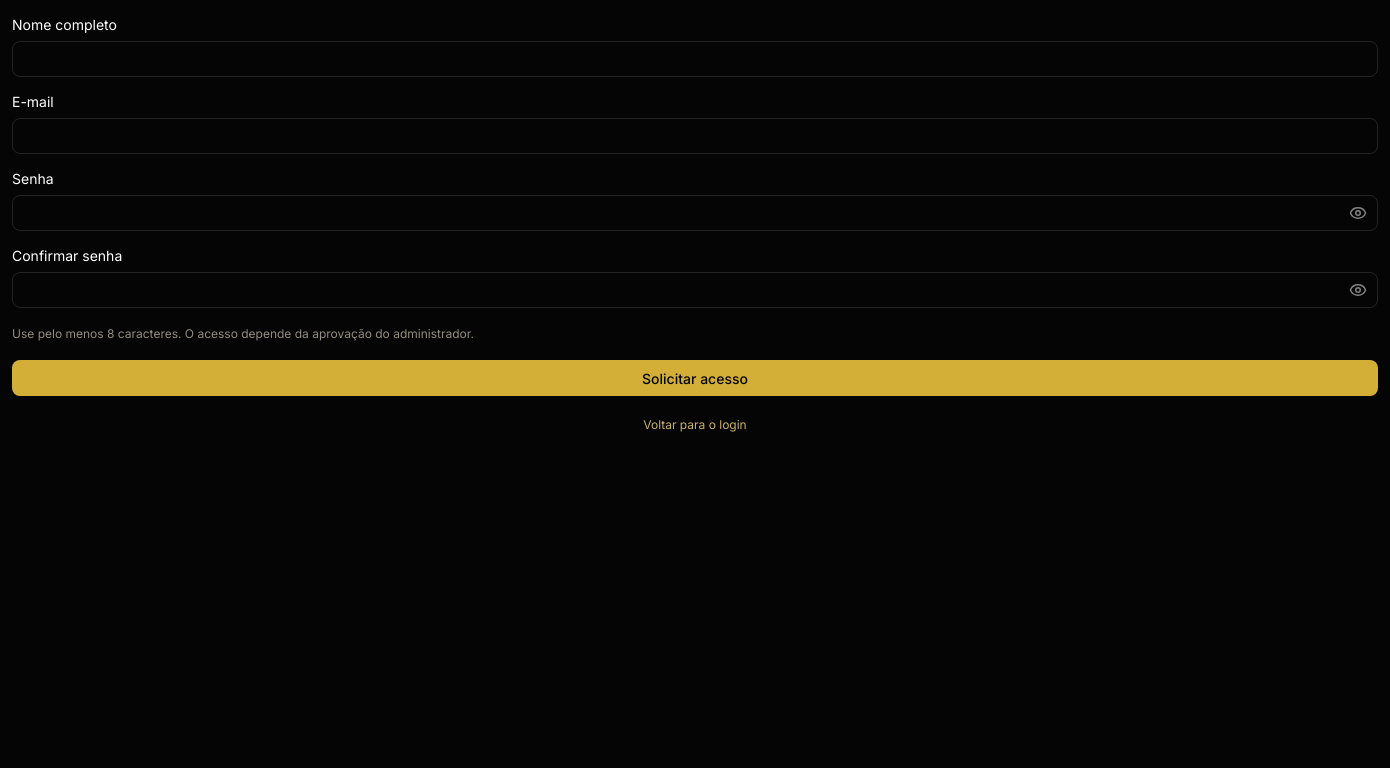
Test: auth forms › shows inline confirmation errors from the real registration action
Type "Test Person" into the field labelled "Nome completo" at x=695, y=59, box top-left (12, 41), bottom-right (1378, 77)
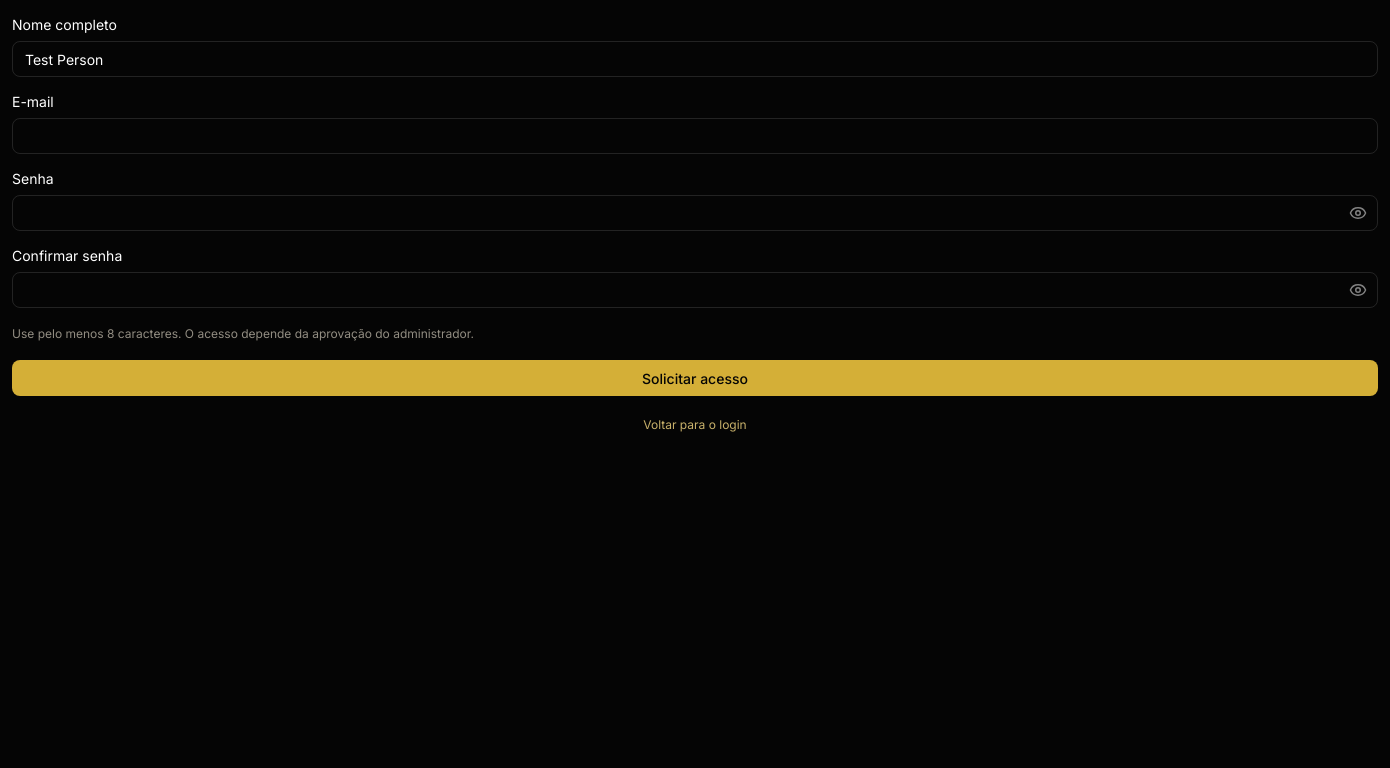
Type "person@example.test" into the field labelled "E-mail" at x=695, y=136, box top-left (12, 118), bottom-right (1378, 154)
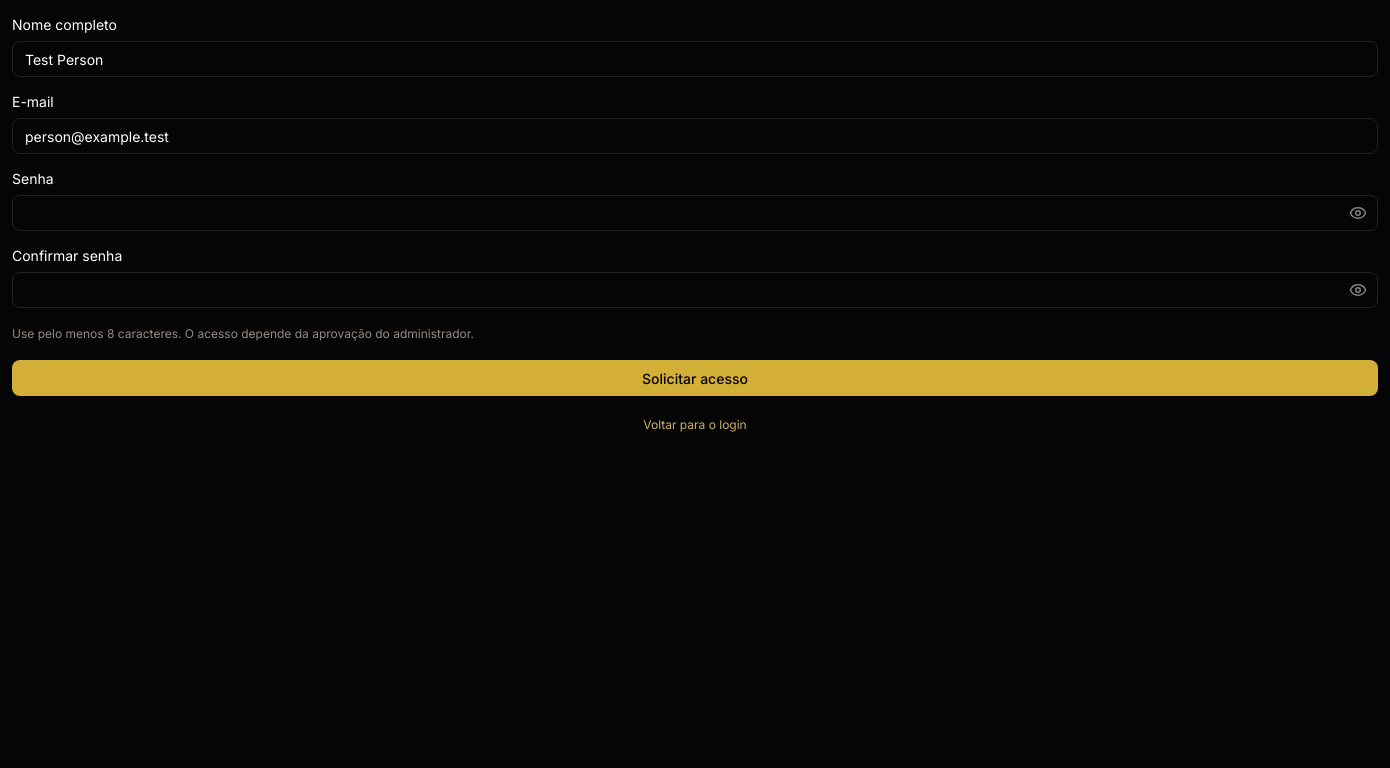
Type "password123" into the password field labelled "Senha" at x=695, y=213, box top-left (12, 195), bottom-right (1378, 231)
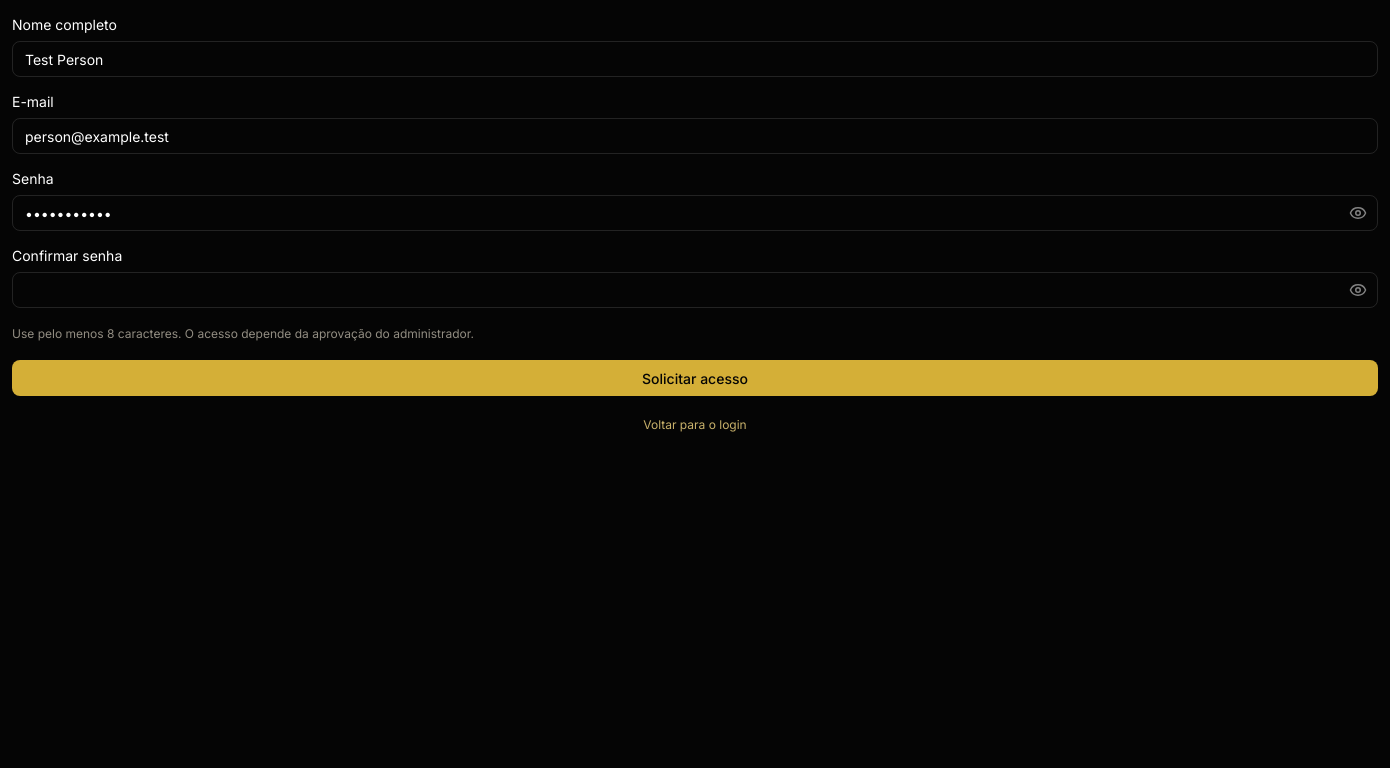
Type "different123" into the password field labelled "Confirmar senha" at x=695, y=290, box top-left (12, 272), bottom-right (1378, 308)
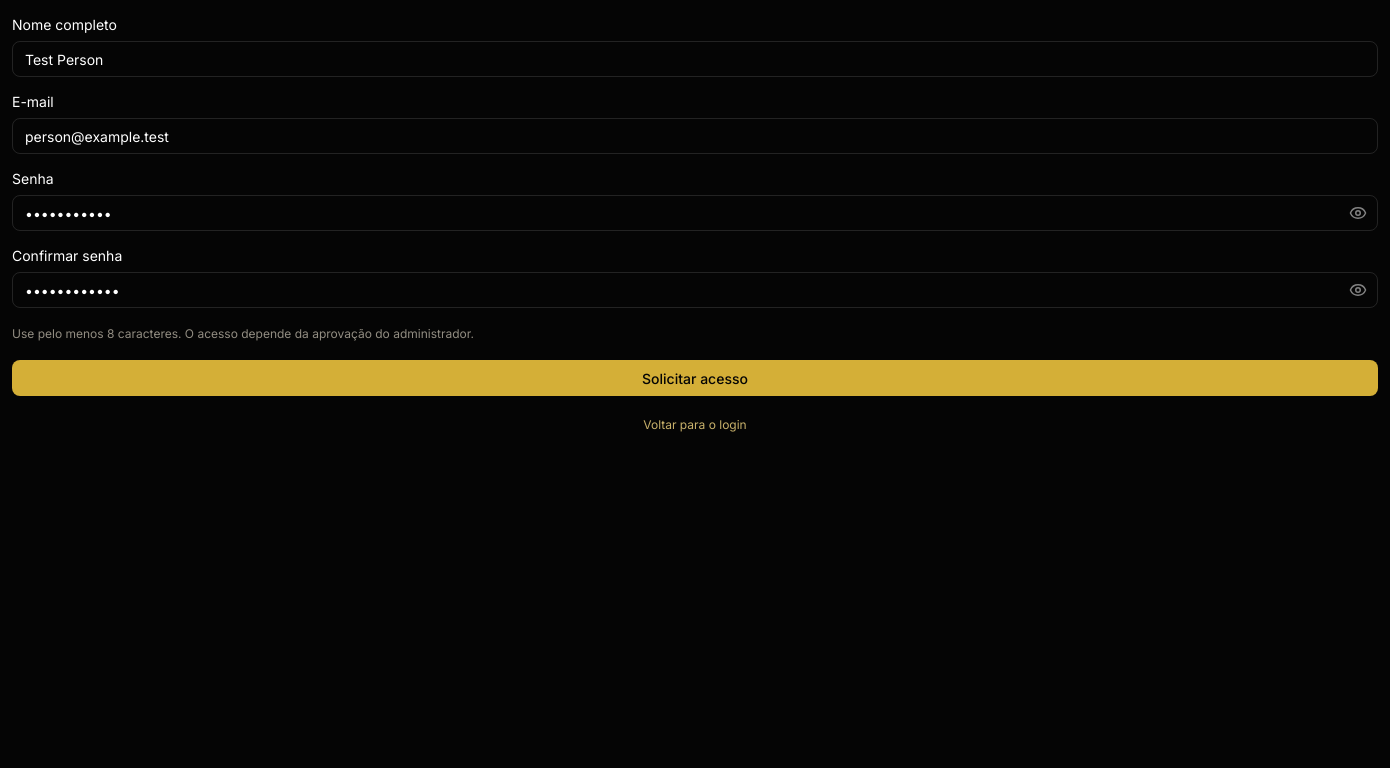
Submit the form named "Solicitar acesso", box top-left (12, 16), bottom-right (1378, 437)
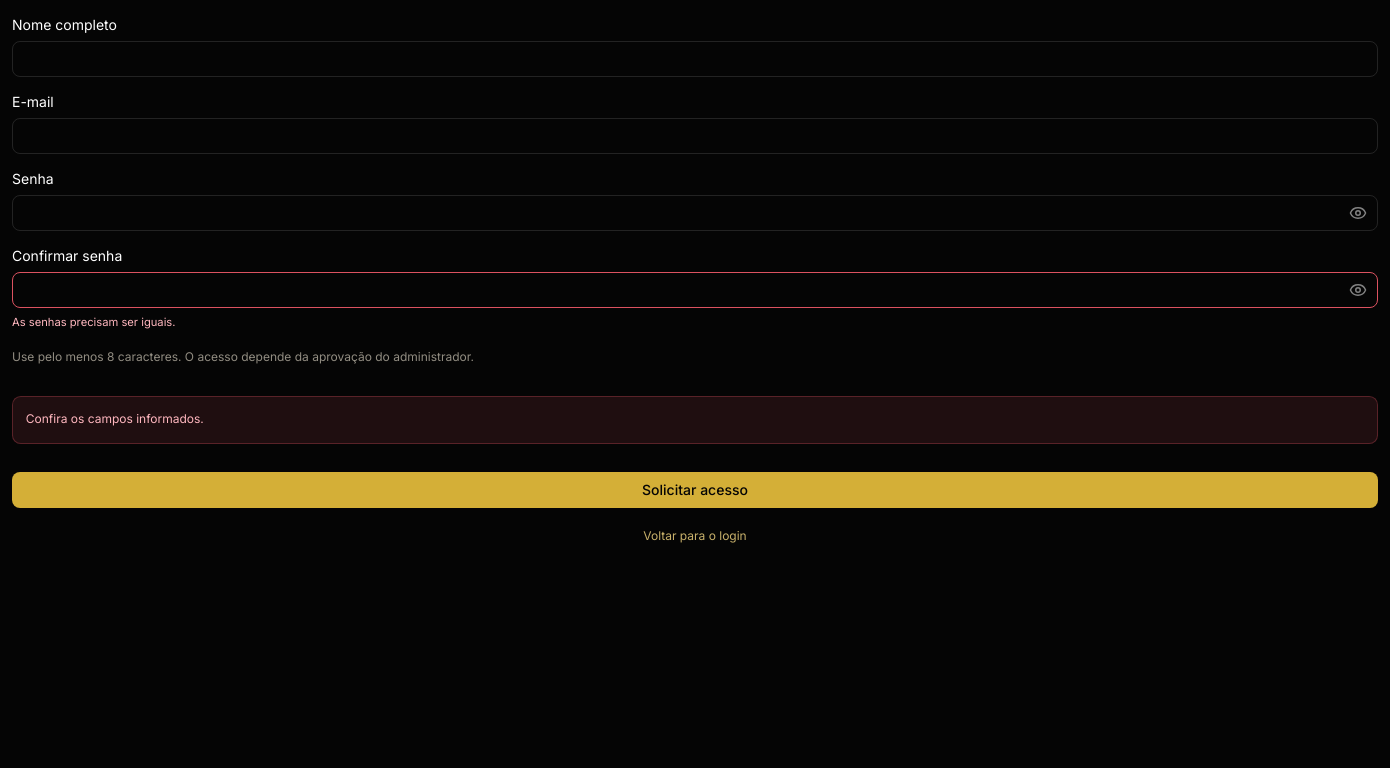
Check: the text "As senhas precisam ser iguais." is shown, box top-left (12, 315), bottom-right (176, 329)
